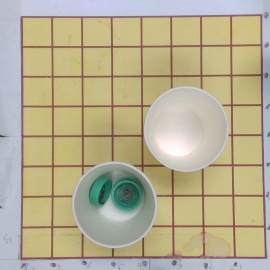cup: (145, 87, 228, 173)
cup_green: (72, 163, 158, 248)
